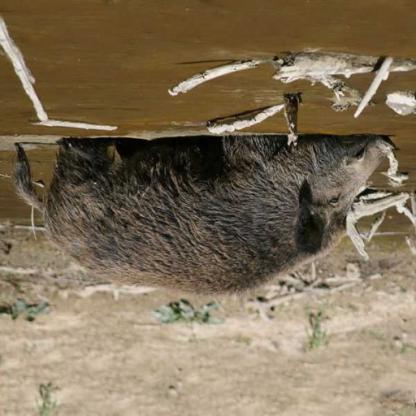boar: (0, 89, 415, 322)
